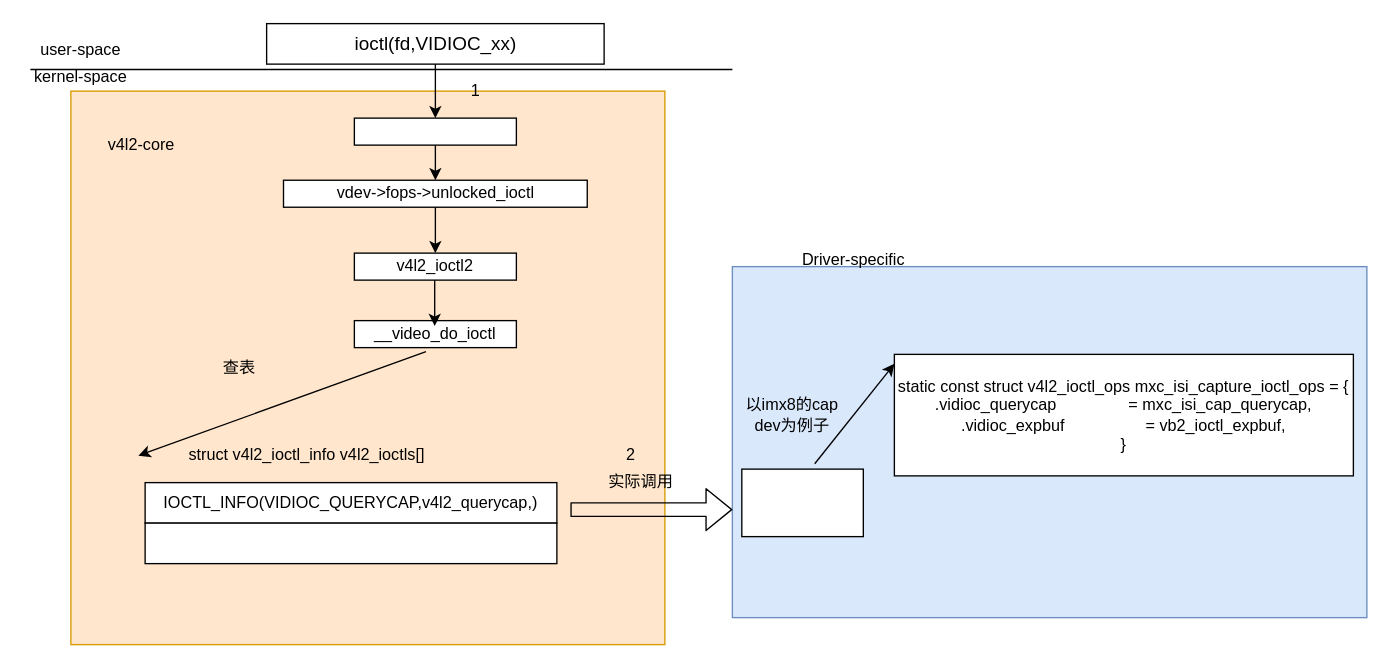
The diagram is 1391 pixels wide and 668 high, and some of its shapes have lost their labels. Here are the shapes that lost their labels. From the top down, the centre of each, then its label:
(x=434, y=131): v4l2_ioctl
(x=801, y=502): vfd->ioctl_ops
(x=350, y=543): IOCTL_INFO(VIDIOC_REQBUFS,v4l2_reqbufs,)
